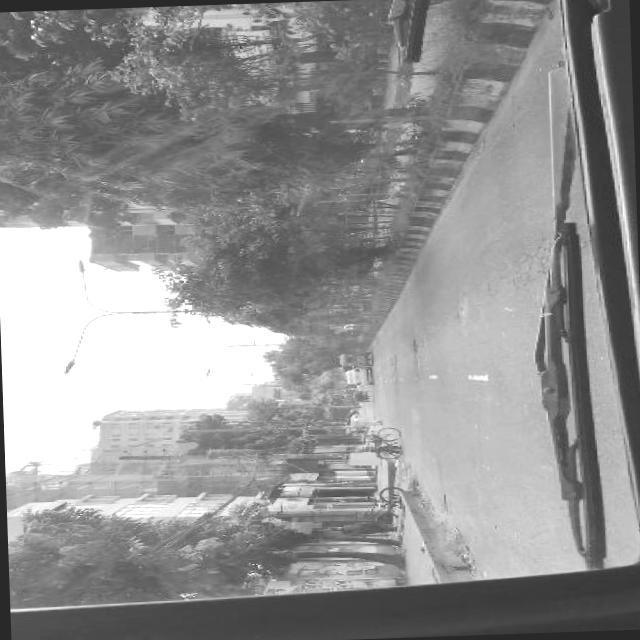car: (343, 366, 370, 386), (343, 414, 356, 430)
motorcycle: (338, 178, 387, 204), (338, 352, 370, 366), (347, 428, 363, 434)
